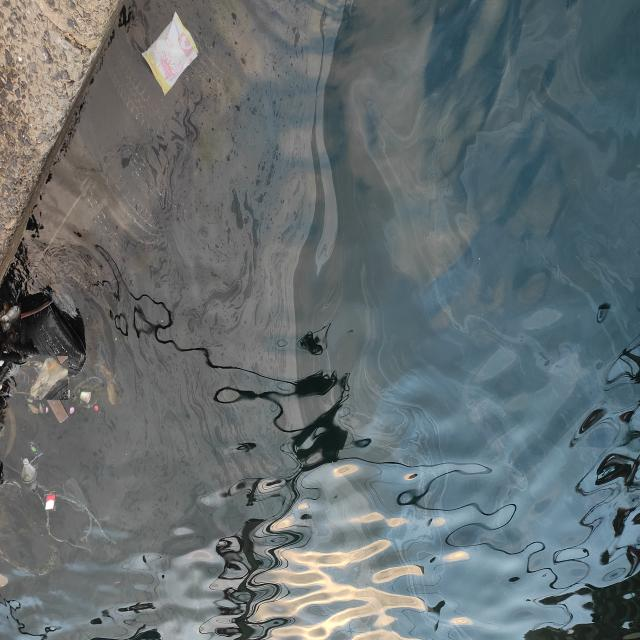Bottle cap: (67, 405, 75, 415), (93, 404, 100, 413), (31, 445, 36, 453)
Plastic: (28, 403, 39, 414), (38, 402, 44, 415), (27, 397, 34, 404)
Plastic bottle: (21, 456, 38, 494), (0, 303, 21, 332)
Plastic cup: (80, 388, 92, 403)
Plastic packaging: (140, 9, 199, 100), (44, 490, 56, 510)
Undefined trash: (30, 356, 68, 400)
Wood: (46, 390, 70, 424)
